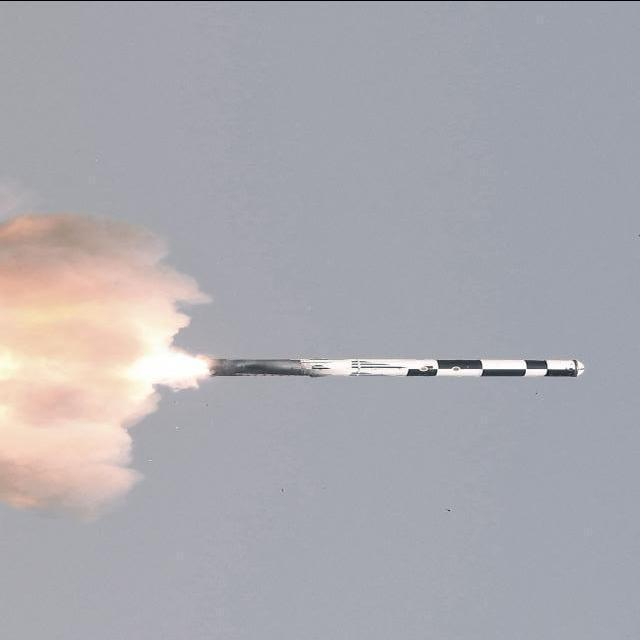missile: (200, 349, 583, 386)
